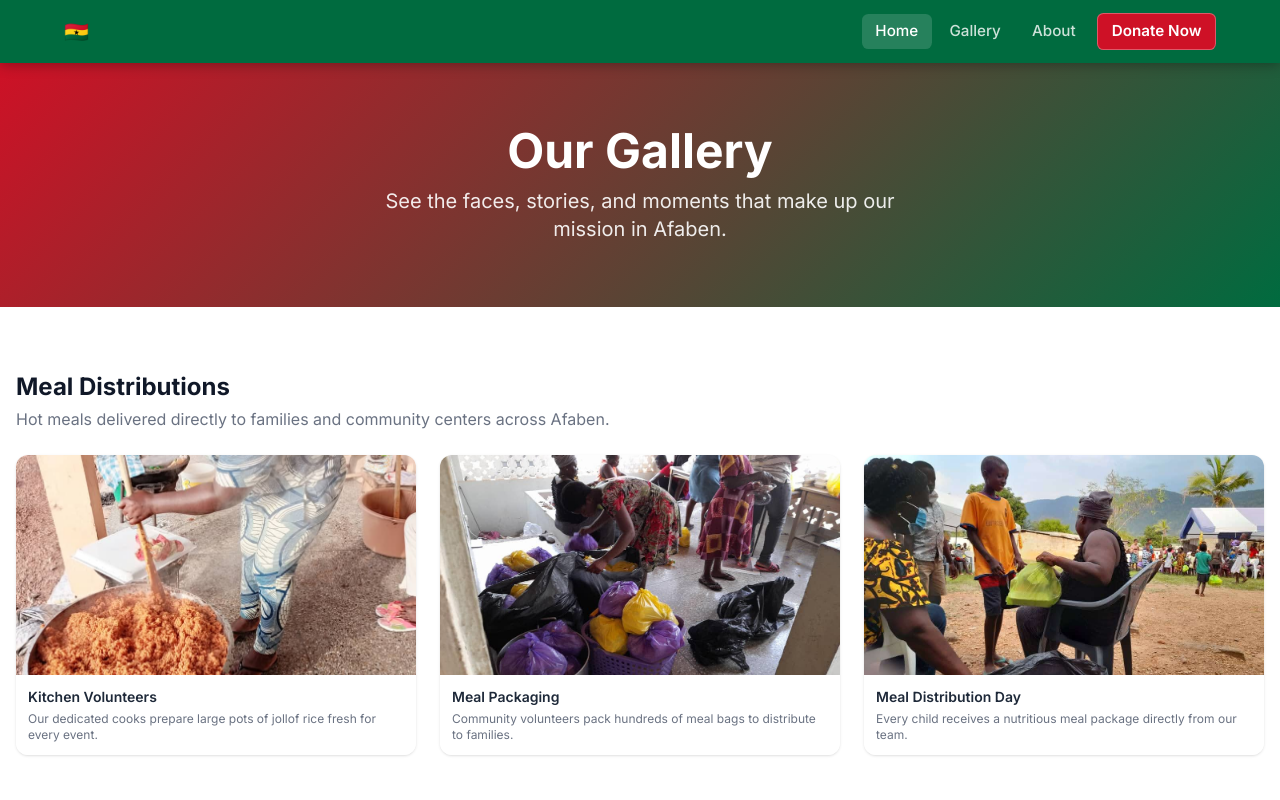
Test case: Gallery page › opens lightbox when a photo card is clicked
Click the button with aria-label "Open photo: Kitchen Volunteers" at (216, 605), box [16,455,416,755]
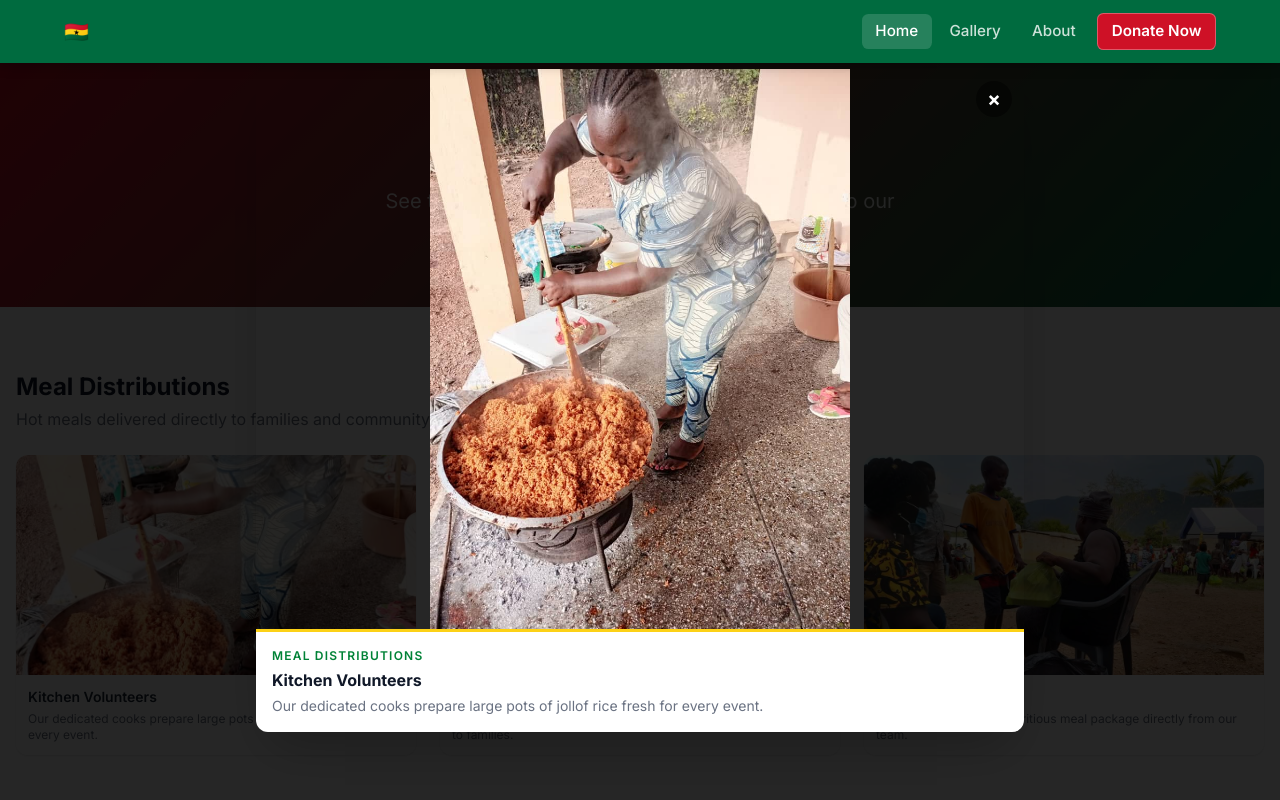
Expected: the element with test id "lightbox-overlay" is shown
